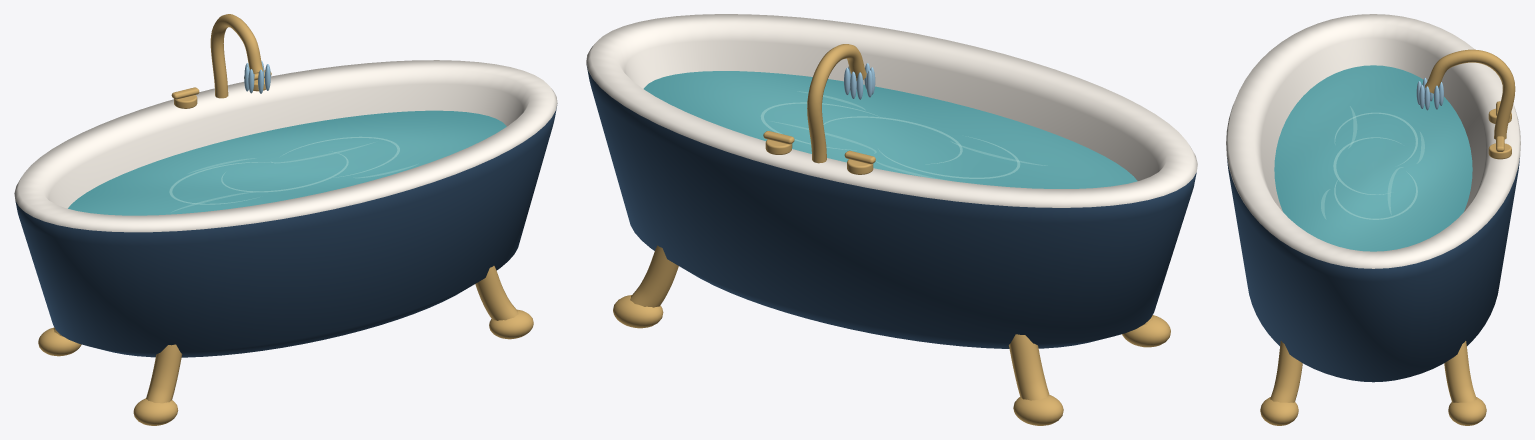
File: bathroomBathClawfootNavy.glb
3 views of the same model, side by side, from view 1: azimuth 30°, elevation 25°; view 2: azimuth 150°, elevation 25°; view 3: azimuth 270°, elevation 25° (orthographic). The views are drawn at different scales.
Visible parts, largest first — view 1: Clawfoot bath shell, Recessed bath water, Bath gooseneck faucet, Curved clawfoot leg, Curved clawfoot leg.002, Clawfoot paw, Clawfoot paw.002, Clawfoot paw.001; view 2: Clawfoot bath shell, Recessed bath water, Bath gooseneck faucet, Curved clawfoot leg.001, Curved clawfoot leg.003, Clawfoot paw.001, Clawfoot paw.003, Clawfoot paw; view 3: Clawfoot bath shell, Recessed bath water, Bath gooseneck faucet, Curved clawfoot leg.002, Curved clawfoot leg.003, Clawfoot paw.002, Clawfoot paw.003.
Part boxes in pixels (bbox=[...]): Clawfoot bath shell: bbox=[14, 60, 557, 357]; Recessed bath water: bbox=[68, 110, 506, 215]; Bath gooseneck faucet: bbox=[210, 14, 263, 98]; Curved clawfoot leg: bbox=[146, 344, 182, 403]; Curved clawfoot leg.002: bbox=[475, 266, 518, 320]; Clawfoot paw: bbox=[133, 398, 178, 425]; Clawfoot paw.002: bbox=[489, 309, 533, 339]; Clawfoot paw.001: bbox=[38, 327, 81, 356]; Clawfoot bath shell: bbox=[586, 14, 1197, 348]; Recessed bath water: bbox=[643, 71, 1137, 188]; Bath gooseneck faucet: bbox=[807, 44, 866, 163]; Curved clawfoot leg.001: bbox=[1009, 334, 1049, 400]; Curved clawfoot leg.003: bbox=[630, 245, 678, 307]; Clawfoot paw.001: bbox=[1013, 395, 1063, 425]; Clawfoot paw.003: bbox=[613, 295, 663, 328]; Clawfoot paw: bbox=[1122, 315, 1170, 347]; Clawfoot bath shell: bbox=[1226, 14, 1520, 382]; Recessed bath water: bbox=[1274, 65, 1472, 251]; Bath gooseneck faucet: bbox=[1425, 49, 1515, 139]; Curved clawfoot leg.002: bbox=[1270, 341, 1302, 402]; Curved clawfoot leg.003: bbox=[1444, 341, 1476, 402]; Clawfoot paw.002: bbox=[1260, 397, 1298, 425]; Clawfoot paw.003: bbox=[1448, 397, 1486, 425].
Size of the model in its own units: 2.46 by 1.31 by 1.22.
